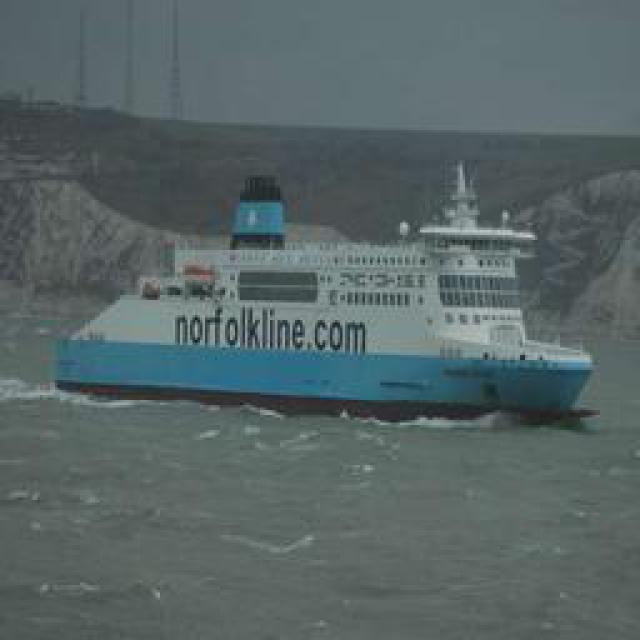Ship: (52, 146, 595, 409)
